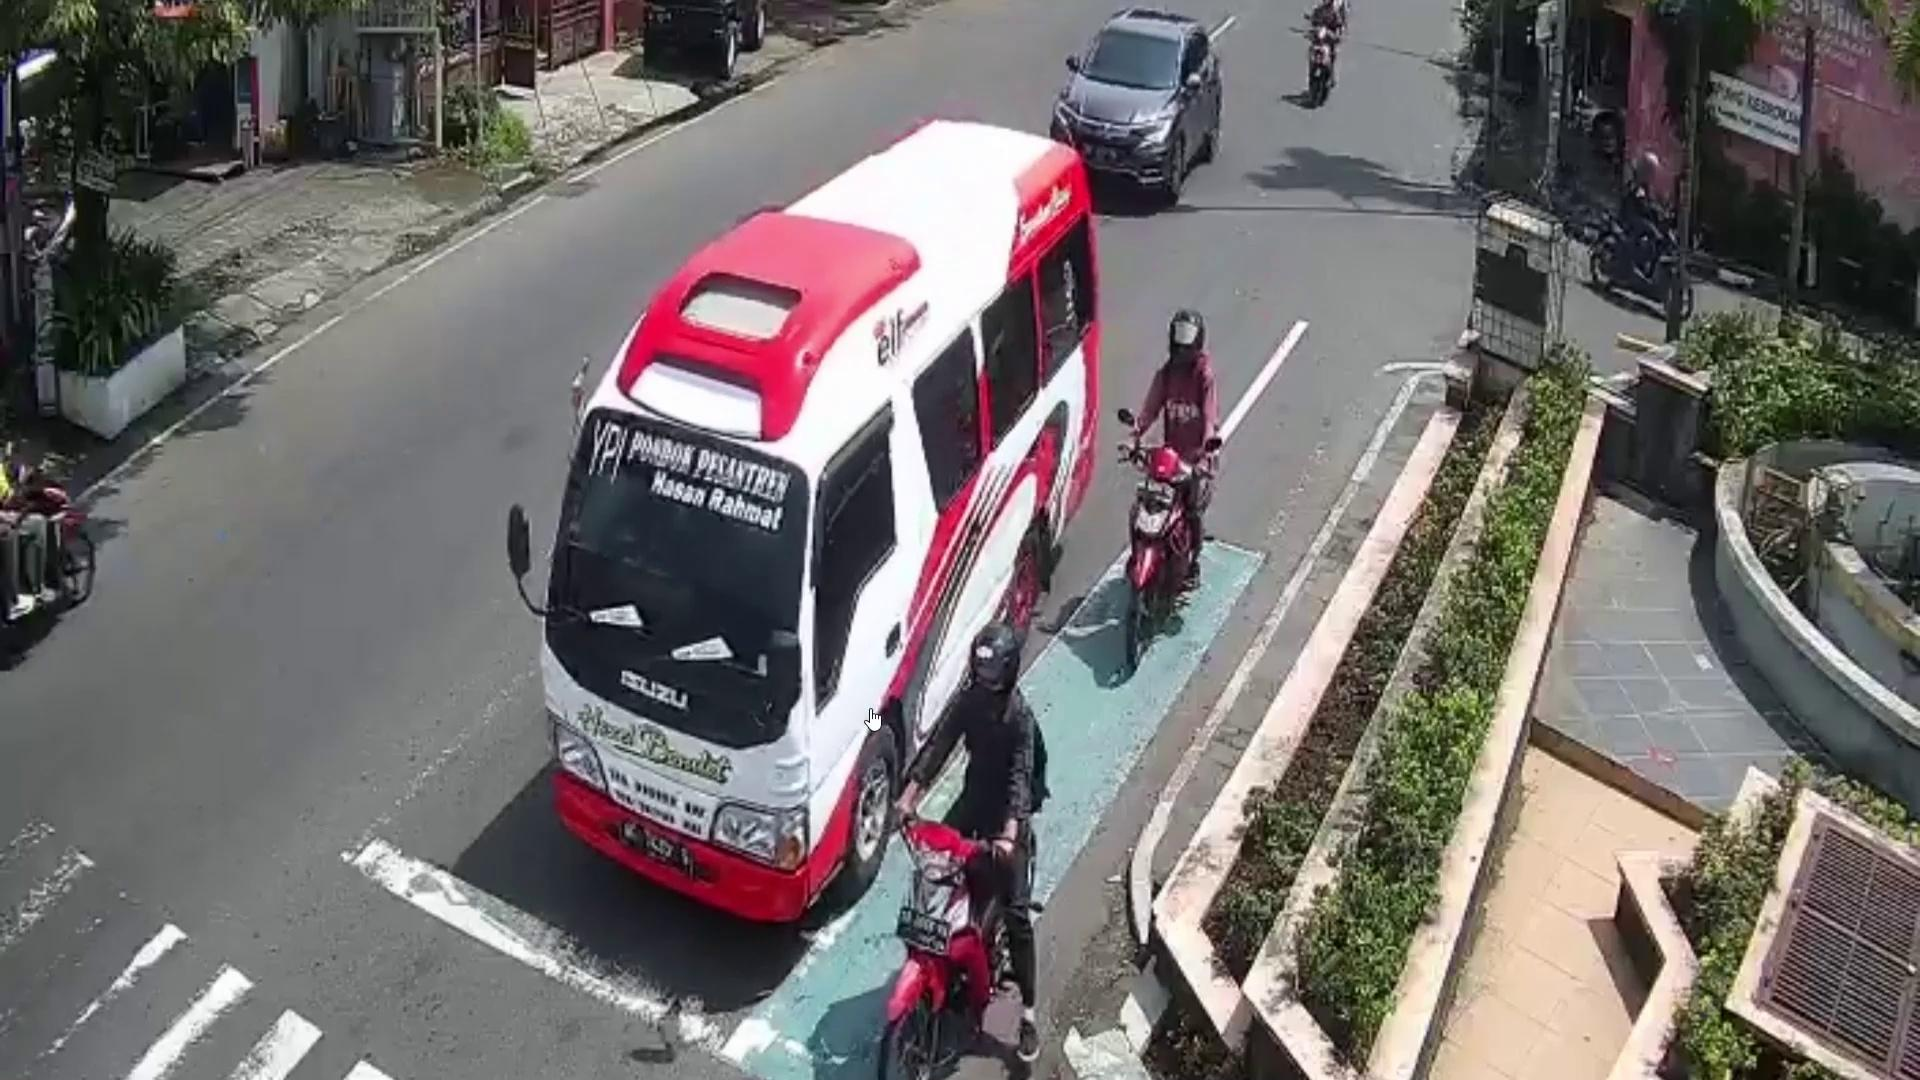bus: (551, 115, 1097, 895)
car: (1055, 4, 1222, 208)
motorbike: (870, 815, 1011, 1080), (1116, 440, 1199, 671), (0, 462, 94, 657), (1588, 210, 1698, 327), (1309, 18, 1338, 115)
